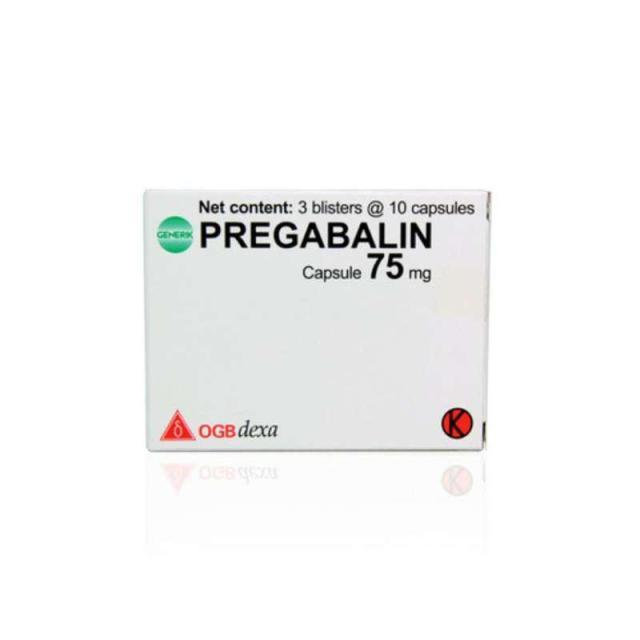drug-name: (202, 218, 438, 255)
